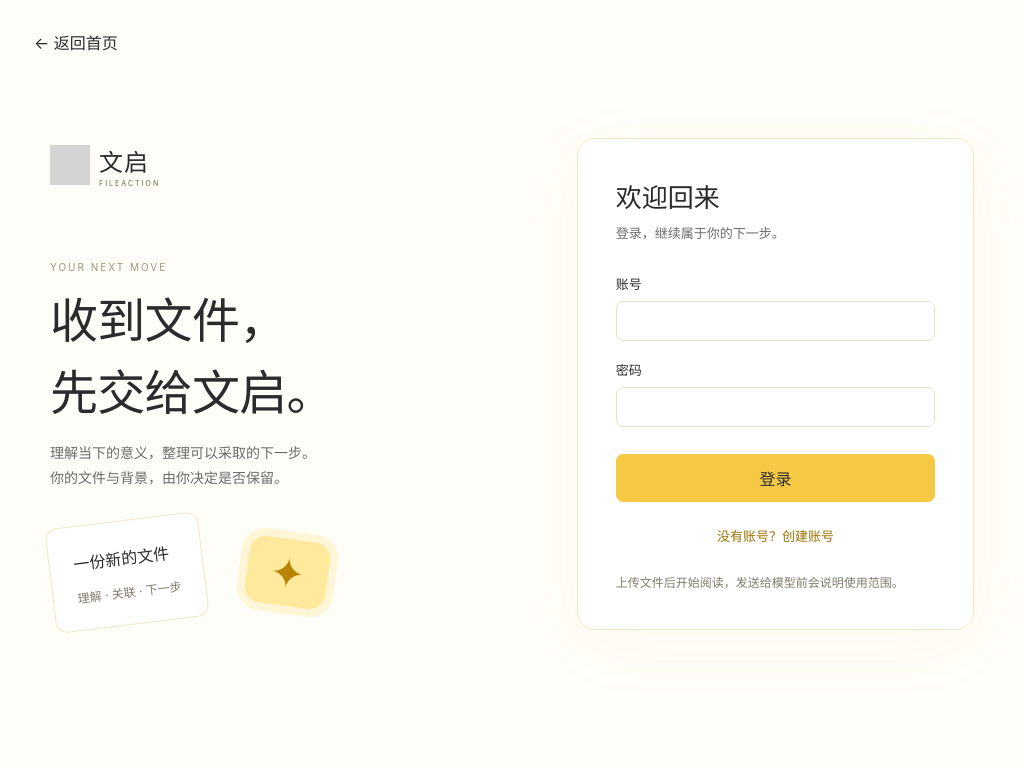
Test: 未登录仅显示登录页，错误后可重新提交且密码不持久化
Type "synthetic" into the field labelled "账号". click: (775, 320)
box: top-left (616, 300), bottom-right (935, 340)
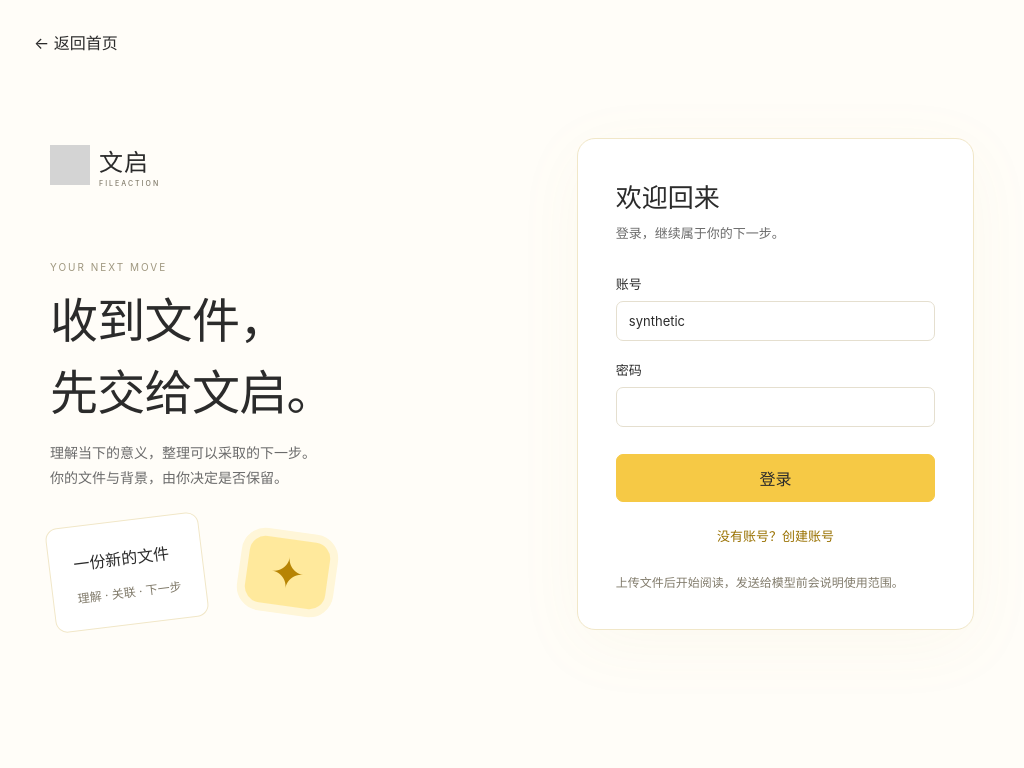
Type "synthetic-password" into the password field labelled "密码". click: (775, 406)
box: top-left (616, 386), bottom-right (935, 426)
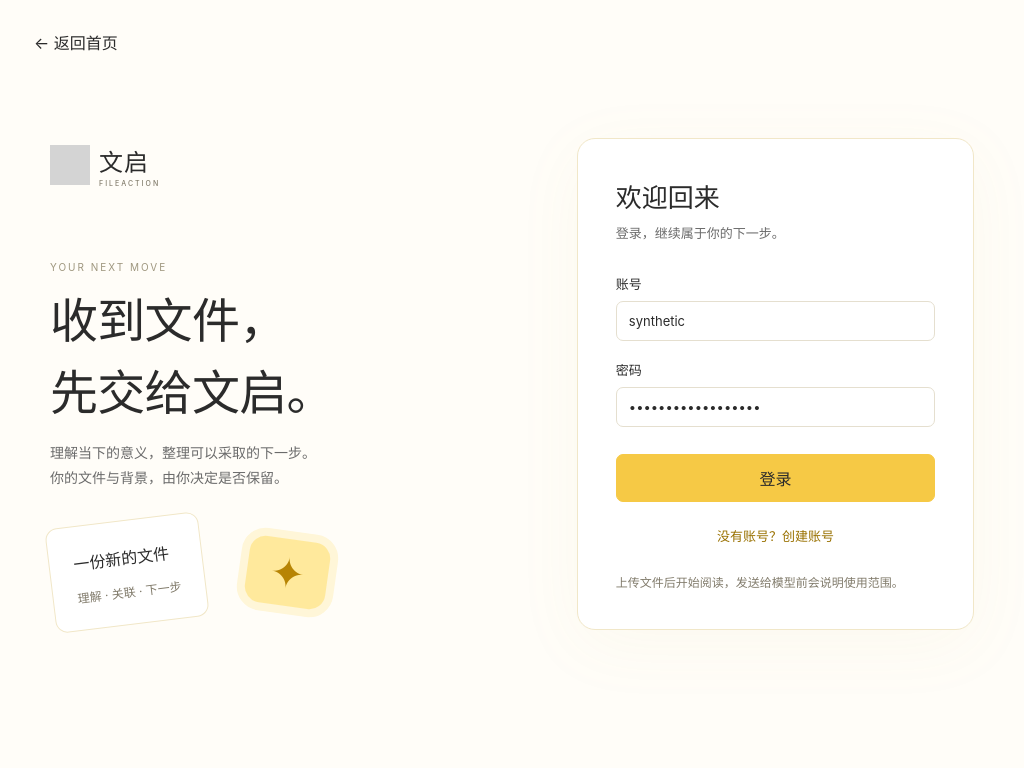
Click the button "登录". click: (775, 478)
box: top-left (616, 454), bottom-right (935, 502)
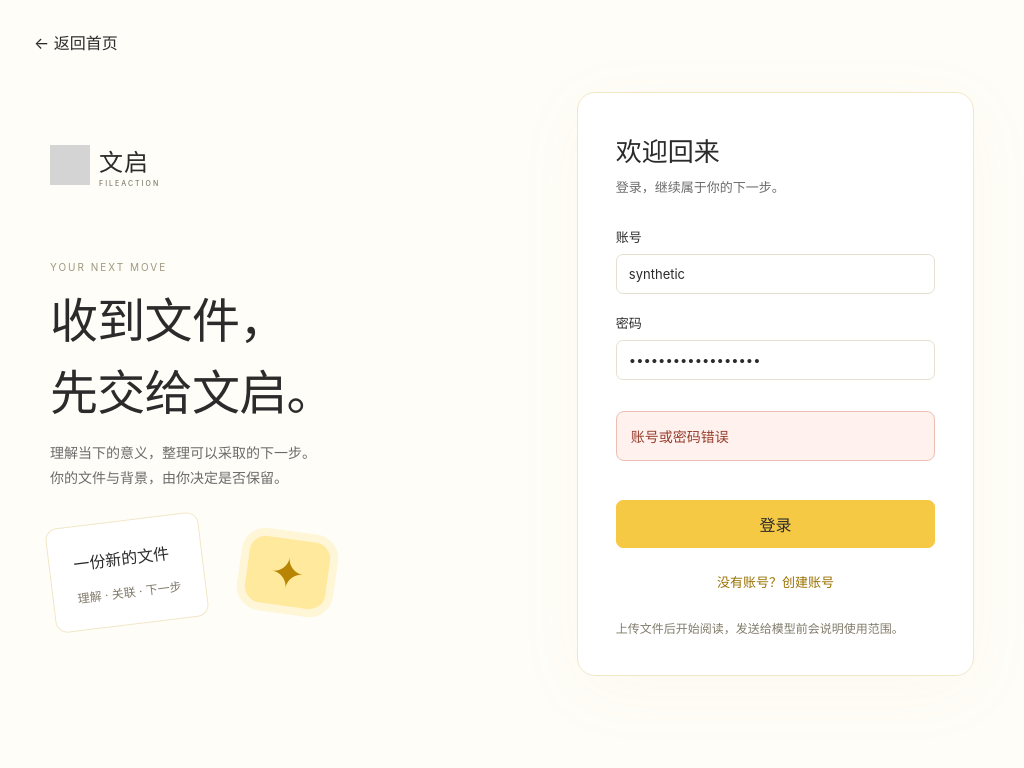
Expected: the button "登录" is enabled, top-left (616, 500), bottom-right (935, 548)
Result: the message reads "账号或密码错误" at top-left (631, 428), bottom-right (729, 445)
